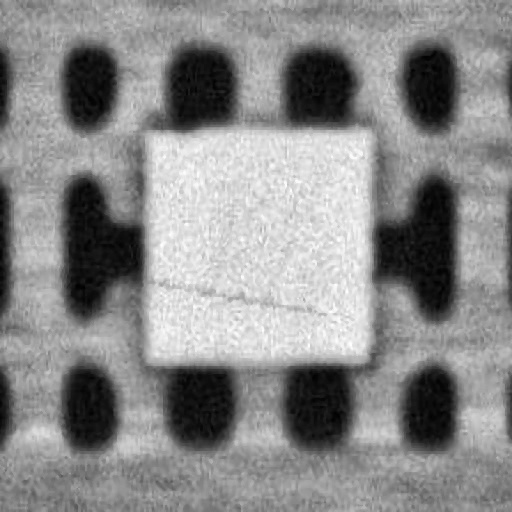DIE_CRACK: (217, 186, 483, 207)
